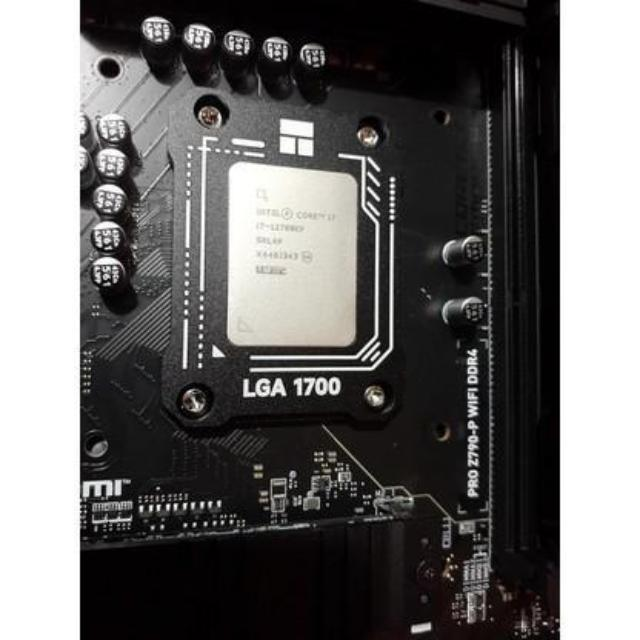CPU: (222, 153, 358, 353)
